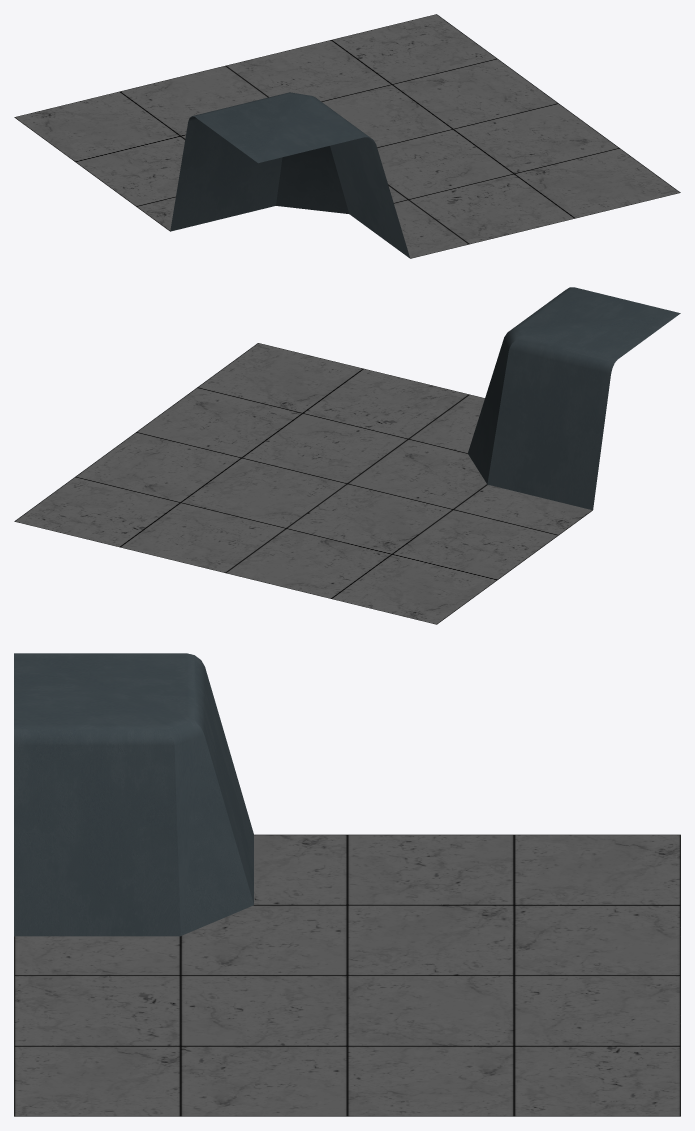
Rendered from tileset.fbx_Collection_11.fbx.
The picture shows the model from 3 angles, top to bottom: view 1: azimuth 30°, elevation 25°; view 2: azimuth 150°, elevation 25°; view 3: azimuth 270°, elevation 25°; orthographic projection. The views are drawn at different scales.
Parts seen in each view (by area): view 1: 95_0_32_MSH.001; view 2: 95_0_32_MSH.001; view 3: 95_0_32_MSH.001.
Boxes of the visible parts, left/top/right/bottom form: 95_0_32_MSH.001: left=14, top=14, right=680, bottom=258; 95_0_32_MSH.001: left=14, top=287, right=680, bottom=624; 95_0_32_MSH.001: left=14, top=653, right=680, bottom=1116.
Size of the model in its own units: 500 by 150 by 500.
